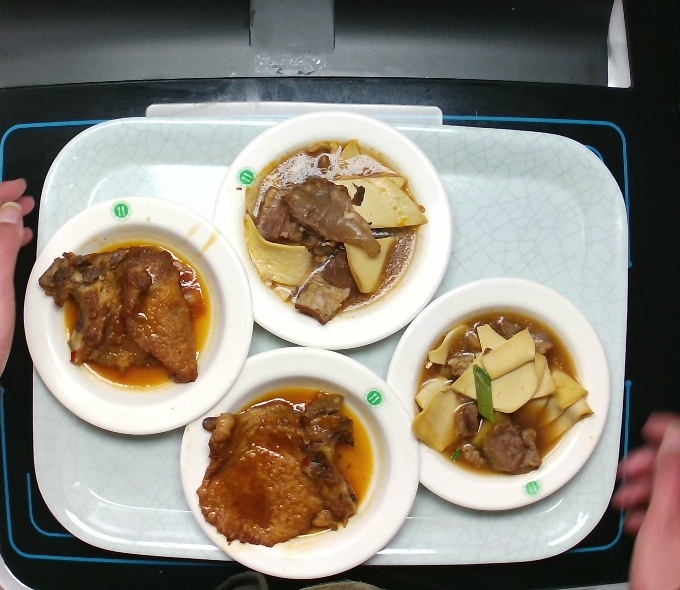wcq-DaPai: (34, 224, 219, 396), (191, 379, 375, 551)
wcq-QianZhangNiuRou: (236, 131, 434, 331), (401, 305, 601, 482)
